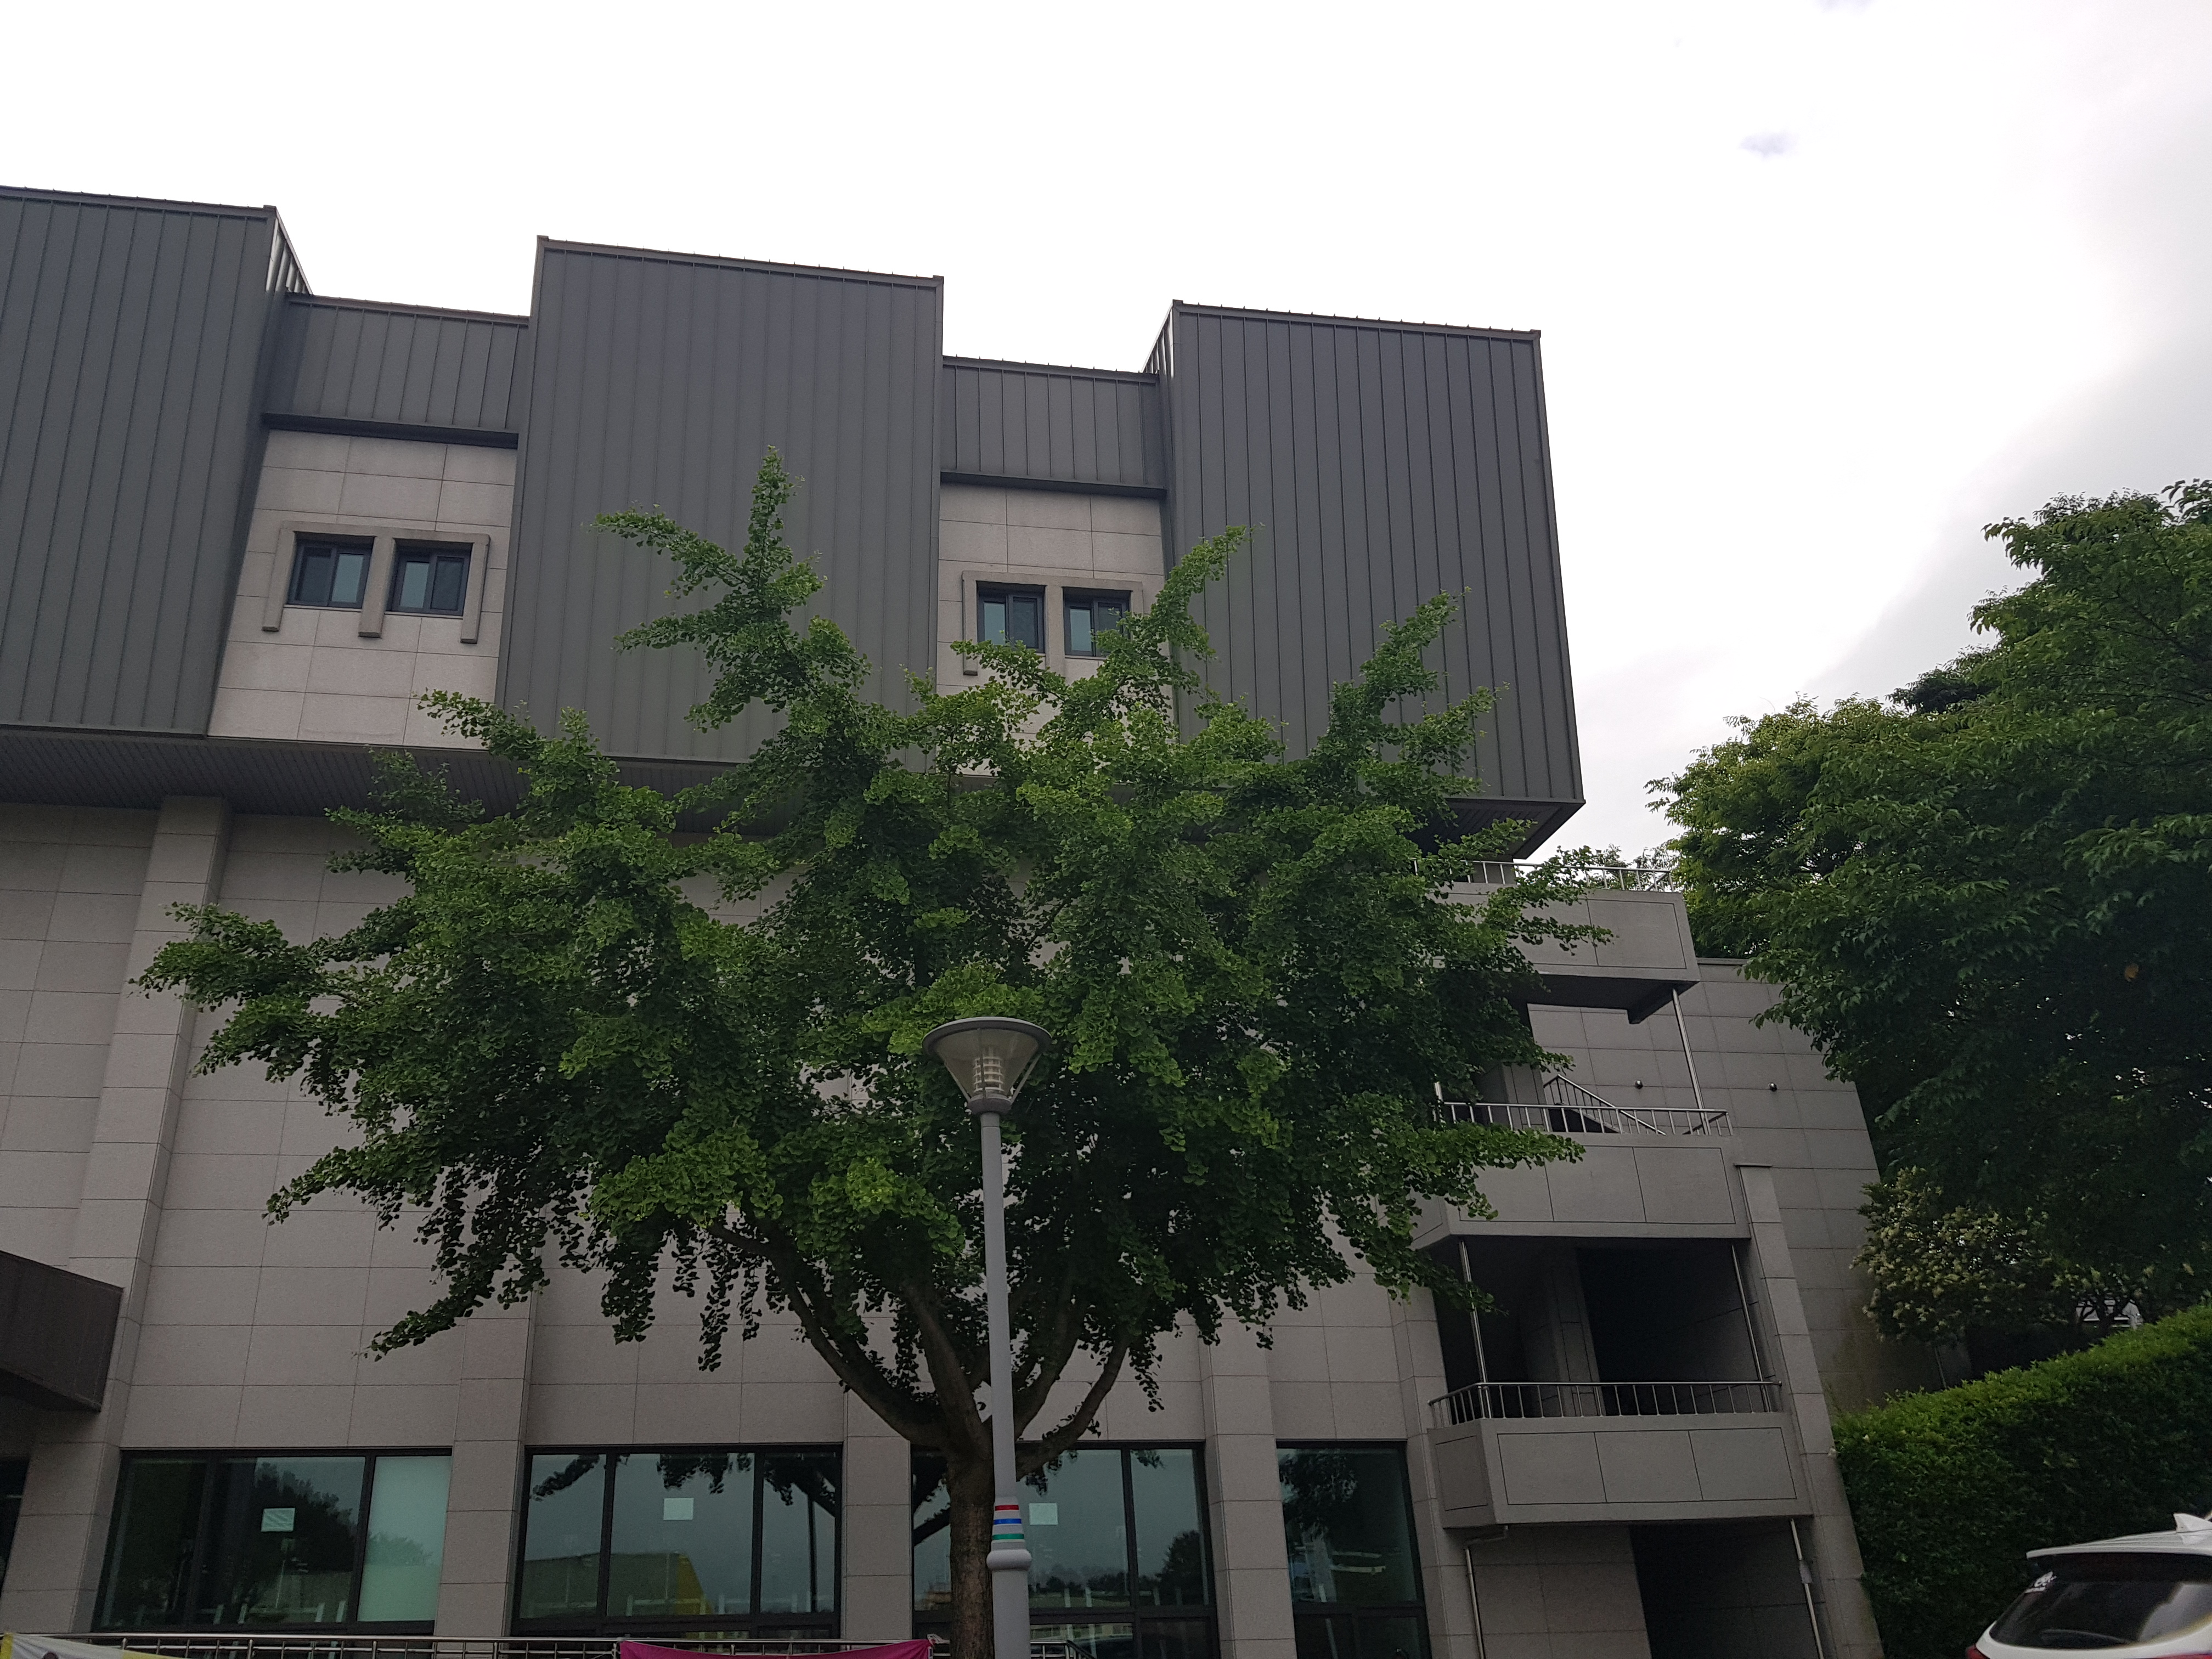Gym: (52, 181, 1909, 1640), (38, 190, 1618, 789), (1369, 810, 1878, 1614)
